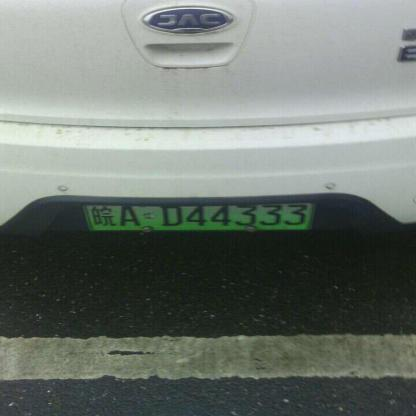lp: (81, 202, 314, 230)
